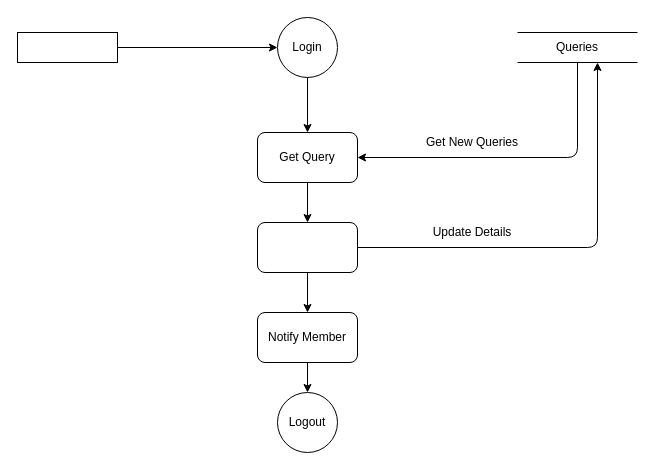
Some shapes in this 656 by 470 pixel diagram are drawn without their labels. Each missing label, with the centre of its shape:
"Answer Query" belongs at point 307,247.
"Librarian" belongs at point 67,47.
